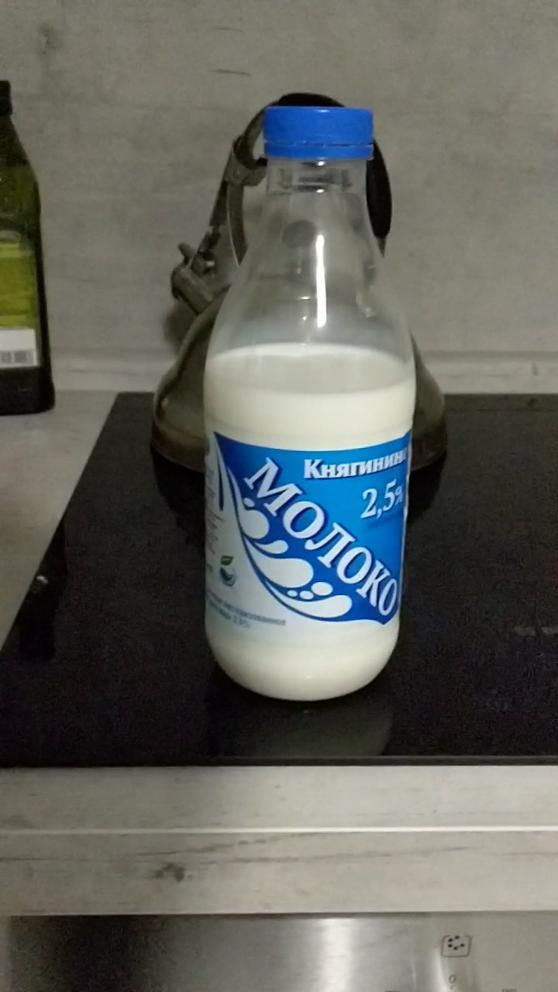milk: (199, 90, 422, 718)
